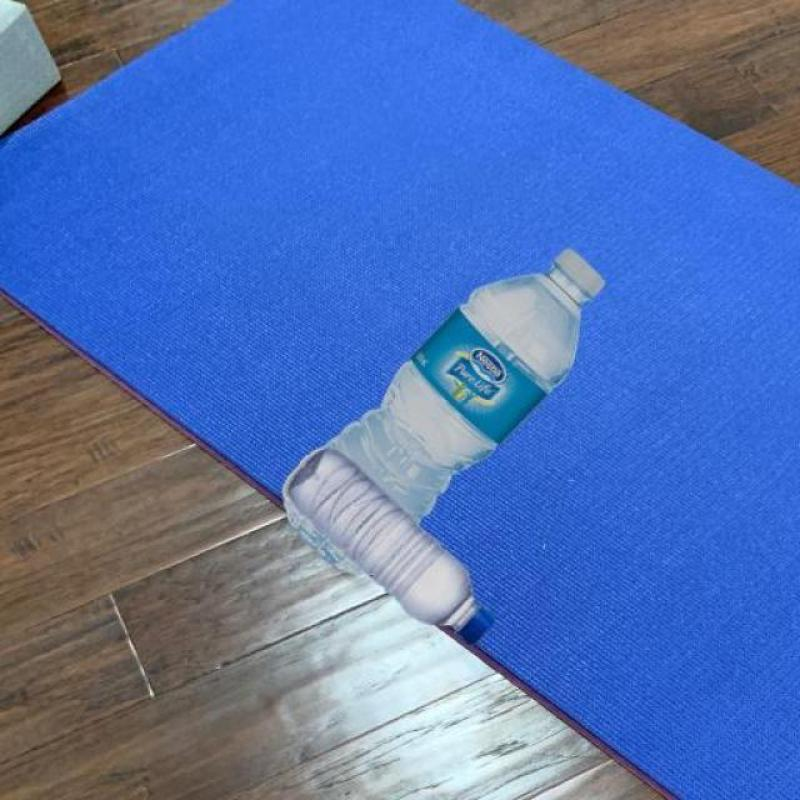botella: (282, 244, 607, 558), (282, 449, 494, 644)
